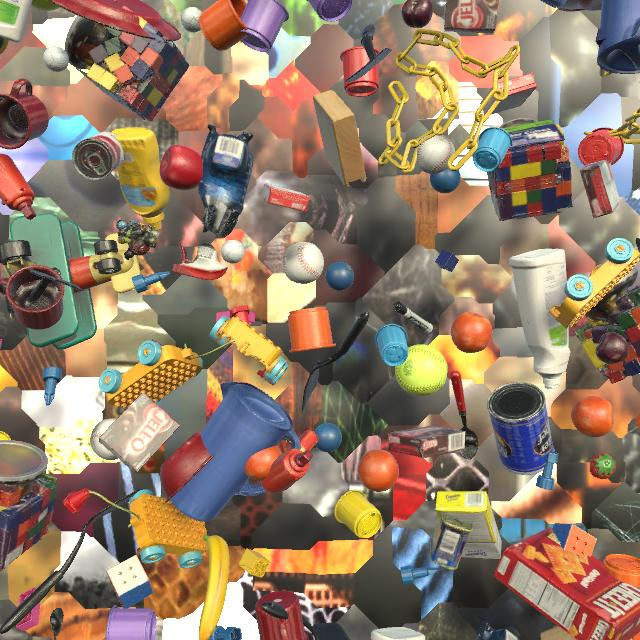ycb_002_master_chef_can: (487, 382, 555, 475)
ycb_003_cracker_box: (494, 527, 640, 640)
ycb_004_sugar_box: (435, 491, 502, 559)
ycb_005_tomato_soup_can: (72, 132, 124, 180)
ycb_006_mustard_bottle: (111, 127, 170, 231), (0, 37, 9, 54)
ycb_008_pudding_box: (99, 393, 180, 473), (388, 426, 466, 458), (580, 160, 621, 218), (444, 0, 499, 34)
ycb_009_gelatin_box: (480, 73, 537, 115), (261, 183, 311, 212)
ycb_010_potted_meat_can: (430, 513, 473, 570)
ycb_011_banana: (198, 535, 229, 640)
ycb_012_strawberry: (589, 453, 616, 479)
ycb_013_apple: (159, 145, 203, 190)
ycb_017_orange: (358, 449, 399, 492), (571, 396, 614, 437), (451, 312, 492, 353), (245, 446, 282, 481)
ycb_018_plum: (595, 332, 629, 364), (402, 0, 433, 28)
